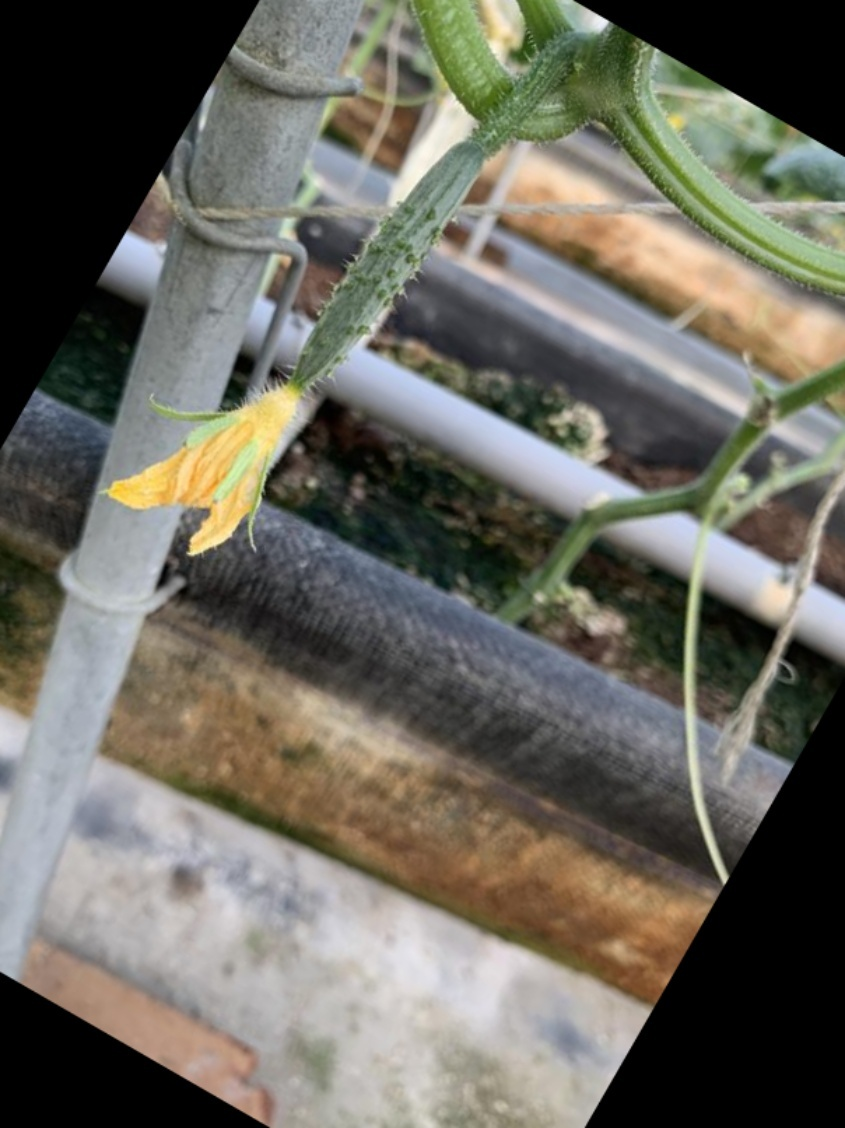bear: (125, 129, 495, 565)
